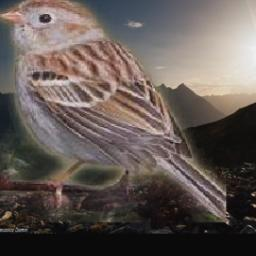Sparrow: (0, 0, 226, 222)
